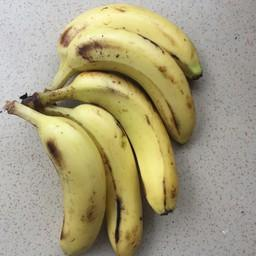Banana Ripe: (47, 63, 196, 224), (44, 68, 171, 256), (49, 27, 204, 143), (5, 93, 105, 256), (35, 2, 212, 84)
